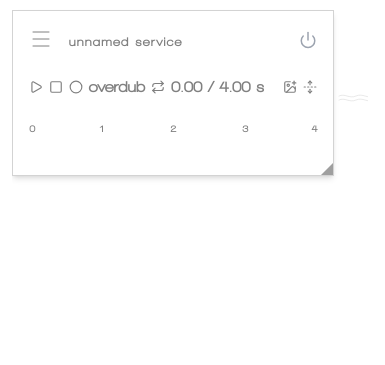
Scenario: the Timeline panel › seeks where the ruler is pressed, and the playhead follows
Check: the text "/ 4.00 s" is shown, box top-left (203, 78), bottom-right (264, 95)
Press the mouse on the 3rd text "0" at [174, 128], box top-left (30, 123), bottom-right (318, 134)
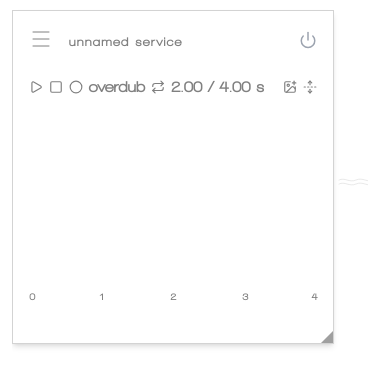
Check: the text "2.00 / 4.00 s" is shown, box top-left (171, 75), bottom-right (264, 99)
